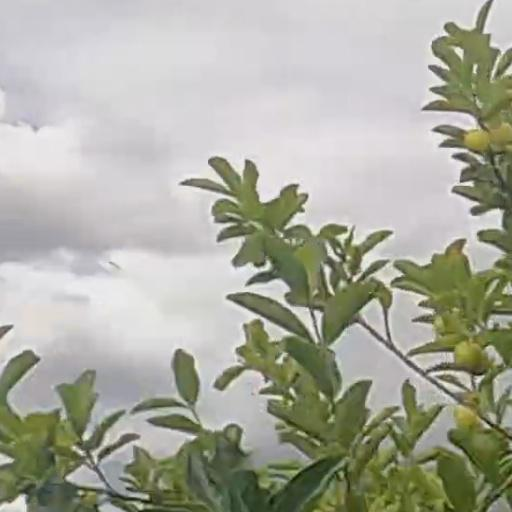acerola_verde: (456, 339, 481, 371), (466, 131, 492, 153)
